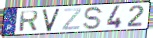2: (126, 5, 146, 28)
4: (105, 4, 123, 30)
R: (18, 9, 40, 32)
S: (83, 6, 105, 31)
V: (41, 7, 61, 33)
Z: (61, 7, 83, 31)
